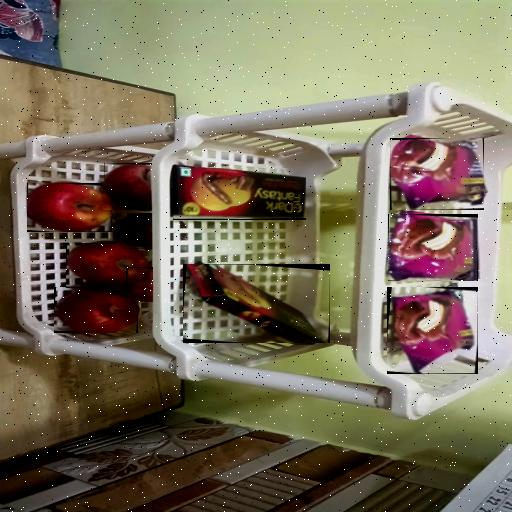Apple: (28, 183, 114, 232), (54, 287, 138, 333), (66, 244, 150, 290), (104, 163, 152, 210), (116, 214, 152, 250), (126, 267, 153, 302)
Choco Fills: (183, 264, 330, 343), (173, 168, 306, 220)
Choco Pie: (387, 287, 478, 374), (390, 138, 484, 210), (388, 214, 478, 281)
